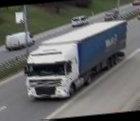truck: (21, 19, 136, 101), (5, 31, 37, 53)
